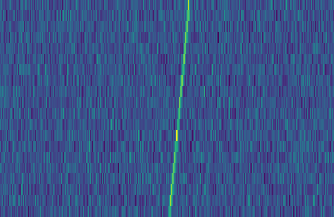signal: (165, 0, 194, 217)
